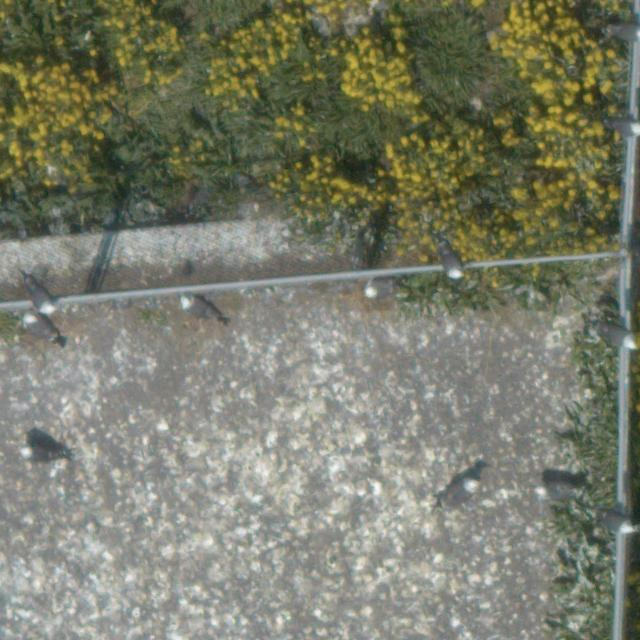umineko: (439, 475, 481, 512), (593, 506, 638, 535), (533, 481, 578, 500), (600, 326, 636, 348), (24, 314, 50, 338), (182, 298, 212, 318), (29, 286, 50, 312), (441, 251, 460, 278), (366, 280, 392, 299), (611, 120, 640, 136), (22, 446, 54, 460)
